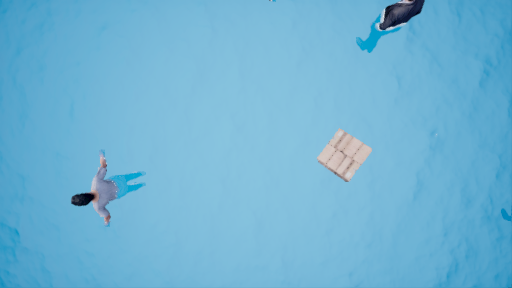person: (64, 147, 163, 225)
